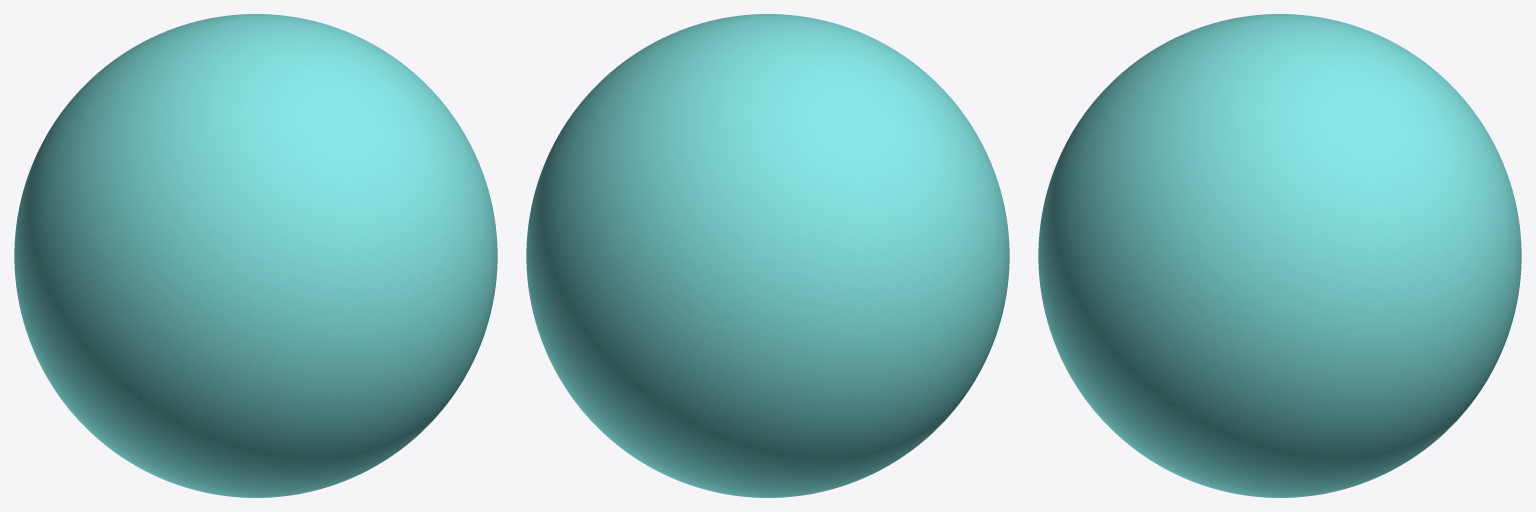
File: planet.glb
3 renders of one model, left to right at view 1: azimuth 30°, elevation 25°; view 2: azimuth 150°, elevation 25°; view 3: azimuth 270°, elevation 25°, orthographic.
Parts seen in each view (by area): view 1: atmosphere; view 2: atmosphere; view 3: atmosphere.
Part boxes in pixels (left/top/right/bottom): atmosphere: left=14, top=14, right=497, bottom=497; atmosphere: left=526, top=14, right=1009, bottom=497; atmosphere: left=1038, top=14, right=1521, bottom=497.
Size of the model in its own units: 1.81 by 1.82 by 1.81.
